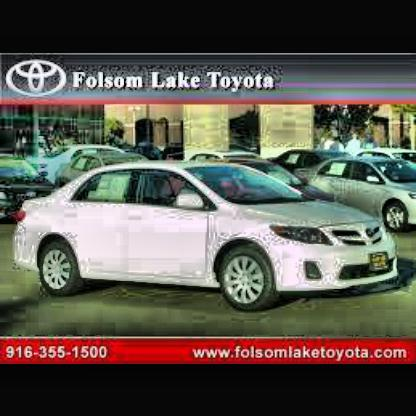Toyota Corolla Sedan 2012: (14, 159, 401, 316)
